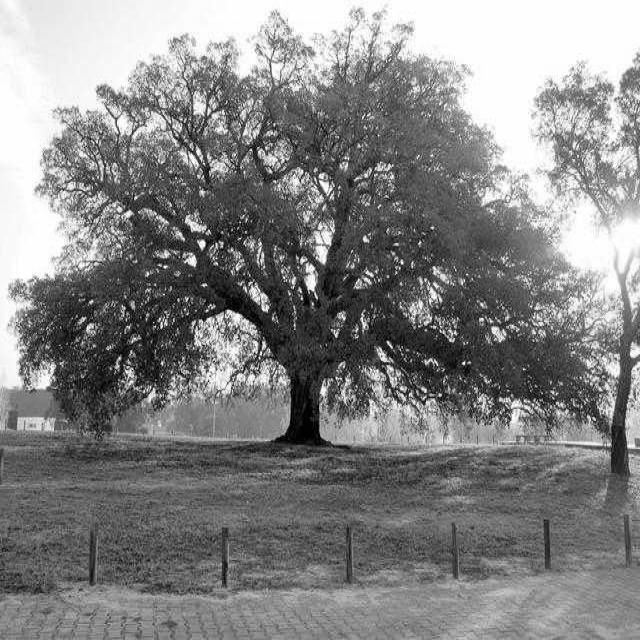Tree: (15, 40, 601, 442)
